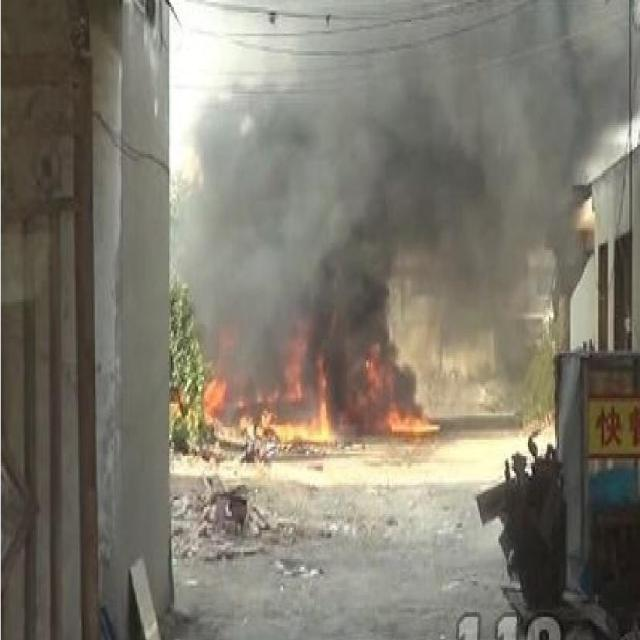Fire: (204, 340, 338, 446), (386, 406, 443, 433)
Smoke: (170, 2, 640, 441)
